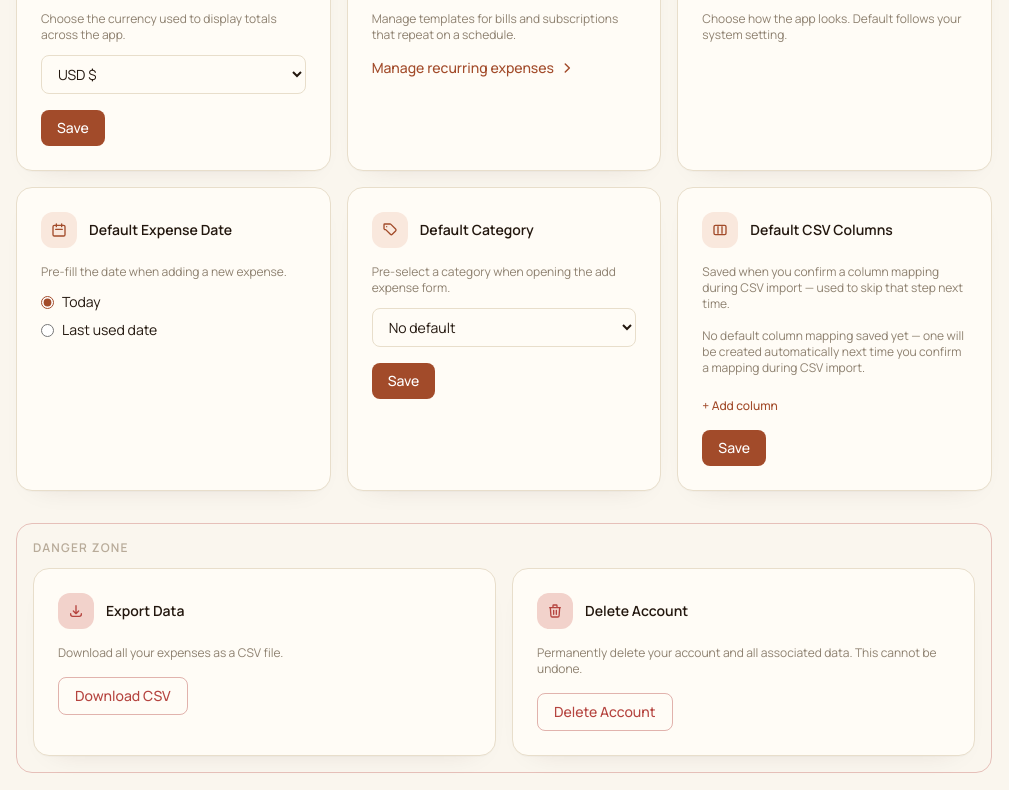
Settings page › "Add column" appends an editable row
(page scrolled)
Expected: the text "No default column mapping saved yet" is shown, [702,327,964,376]
Click the button "+ Add column".
click(740, 406)  # box [702,398,778,414]
(page scrolled)
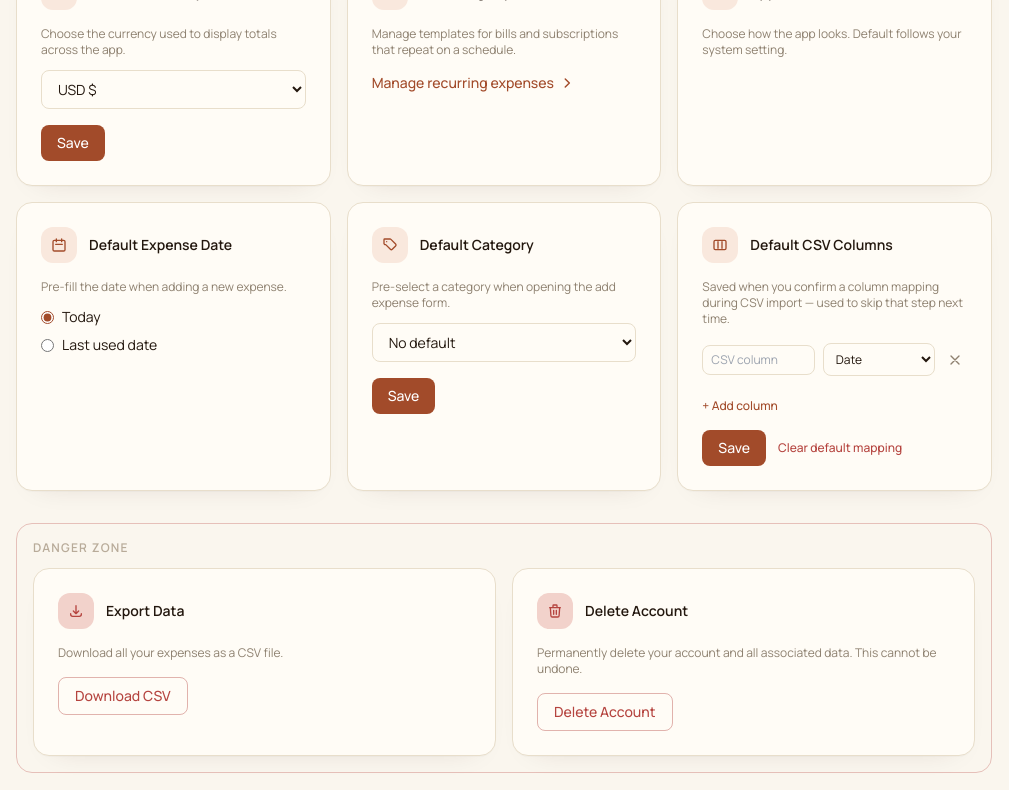
Expected: the field with placeholder "CSV column" is shown, [702,344,815,374]
